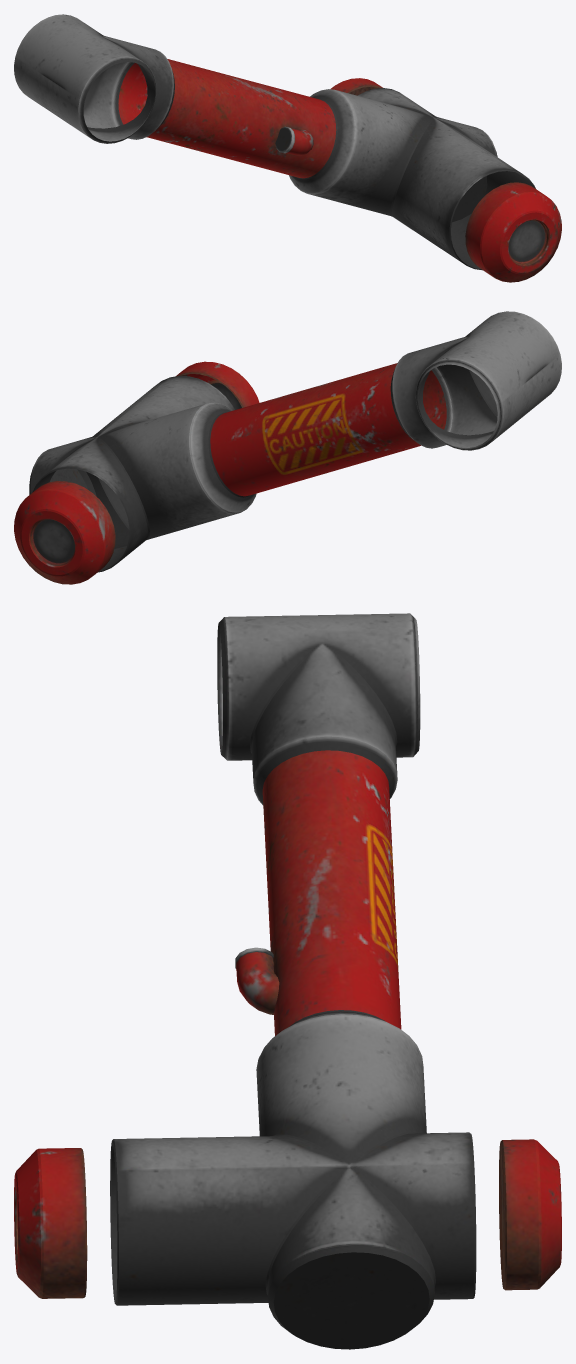
File: asset_braco1.glb
3 renders of one model, top to bottom at view 1: azimuth 30°, elevation 25°; view 2: azimuth 150°, elevation 25°; view 3: azimuth 270°, elevation 25°, orthographic. The views are drawn at different scales.
Parts seen in each view (by area): view 1: Arm1; view 2: Arm1; view 3: Arm1.
Part boxes in pixels (x1,y1,x2,y2): Arm1: [14, 14, 561, 282]; Arm1: [14, 311, 561, 584]; Arm1: [14, 613, 561, 1349].
Bounding box in the file's own units: 0.1023 × 0.0622 × 0.069.
1 material, 1 textured.
